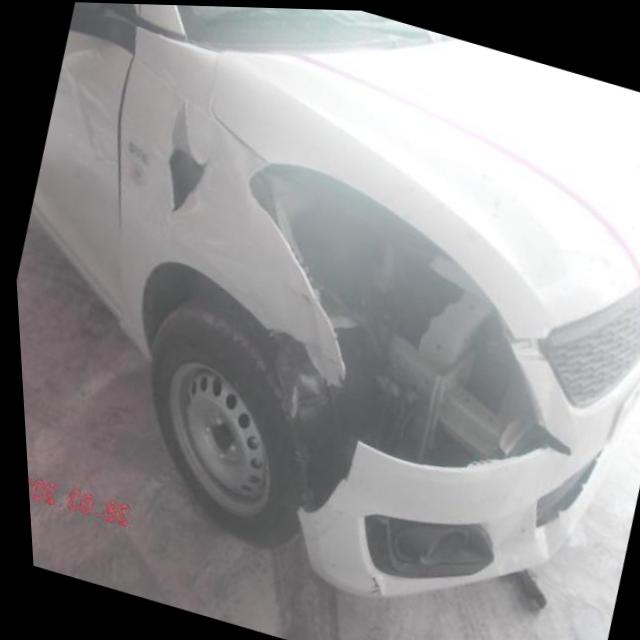Car-Damage: (157, 144, 632, 595), (135, 91, 228, 230), (471, 497, 532, 585), (348, 564, 387, 602)
